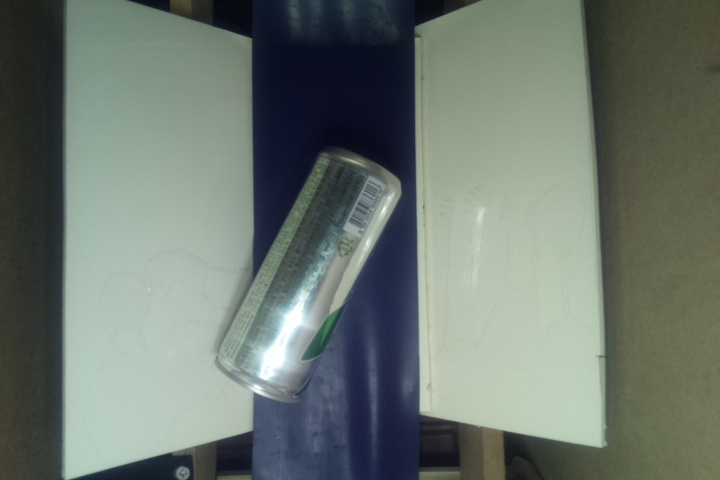can: (215, 147, 402, 406)
